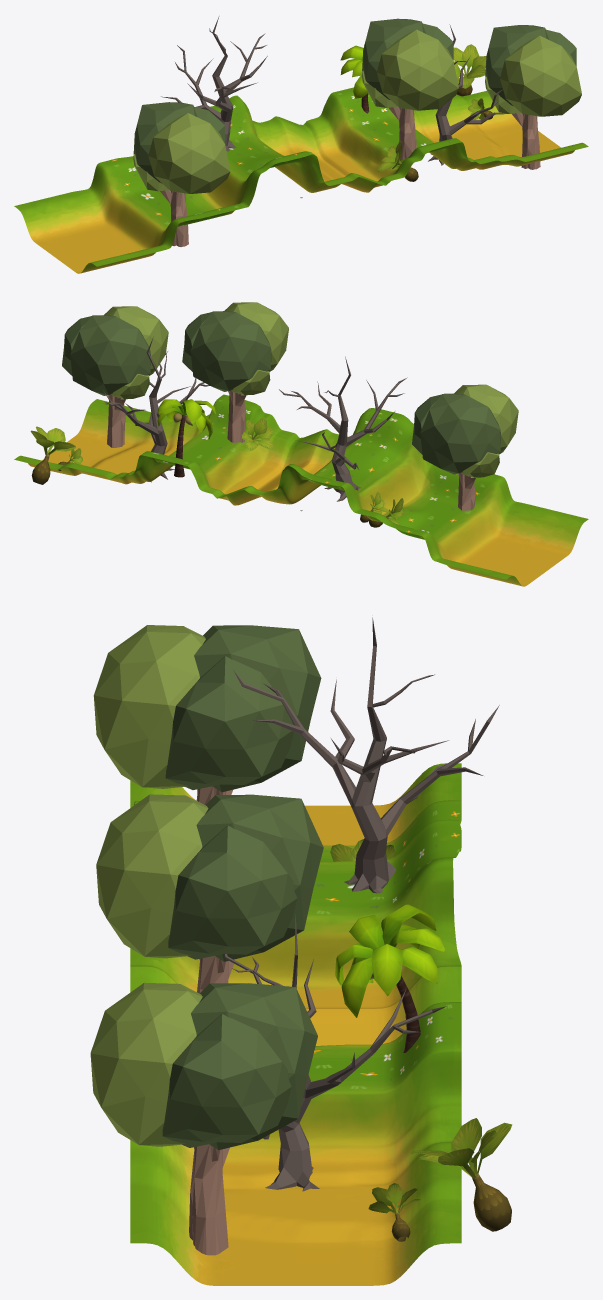
File: UpandDown.fbx
3 views of the same model, one above another, from view 1: azimuth 30°, elevation 25°; view 2: azimuth 150°, elevation 25°; view 3: azimuth 270°, elevation 25° (orthographic). The views are drawn at different scales.
Visible parts, largest first — view 1: pPlane1, polySurface55, polySurface54, polySurface6, Line01, Line02, polySurface286, polySurface728, polySurface731; view 2: pPlane1, polySurface54, polySurface55, polySurface6, Line01, Line02, polySurface728, polySurface286, polySurface731; view 3: pPlane1, polySurface55, polySurface54, polySurface6, Line01, polySurface728, Line02, polySurface286, polySurface730.
Part boxes in pixels (x1,y1,x2,y2): pPlane1: (14, 87, 588, 273); polySurface55: (485, 25, 581, 169); polySurface54: (361, 18, 458, 160); polySurface6: (133, 102, 230, 246); Line01: (161, 16, 267, 151); Line02: (428, 24, 508, 165); polySurface286: (453, 44, 486, 96); polySurface728: (340, 44, 369, 113); polySurface731: (378, 141, 418, 181); pPlane1: (14, 394, 588, 586); polySurface54: (182, 302, 288, 442); polySurface55: (62, 306, 168, 447); polySurface6: (412, 384, 518, 510); Line01: (279, 356, 407, 501); Line02: (103, 337, 209, 482); polySurface728: (157, 399, 216, 477); polySurface286: (30, 426, 75, 484); polySurface731: (241, 417, 274, 450); pPlane1: (130, 763, 461, 1285); polySurface55: (90, 982, 317, 1255); polySurface54: (96, 794, 323, 993); polySurface6: (93, 625, 321, 804); Line01: (233, 617, 499, 893); polySurface728: (335, 904, 445, 1052); Line02: (224, 914, 446, 1191); polySurface286: (410, 1118, 512, 1231); polySurface730: (368, 1183, 420, 1241).
Bounding box in the file's own units: 405 × 147 × 149.
